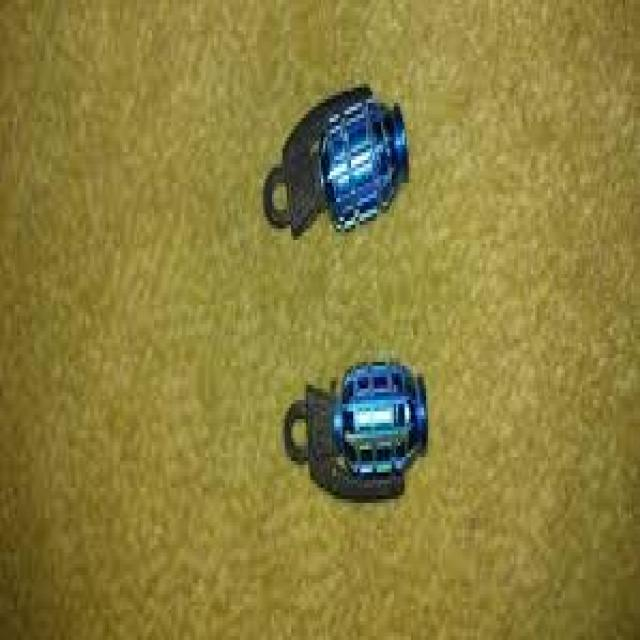grenade: (262, 76, 413, 242), (280, 357, 433, 504)
